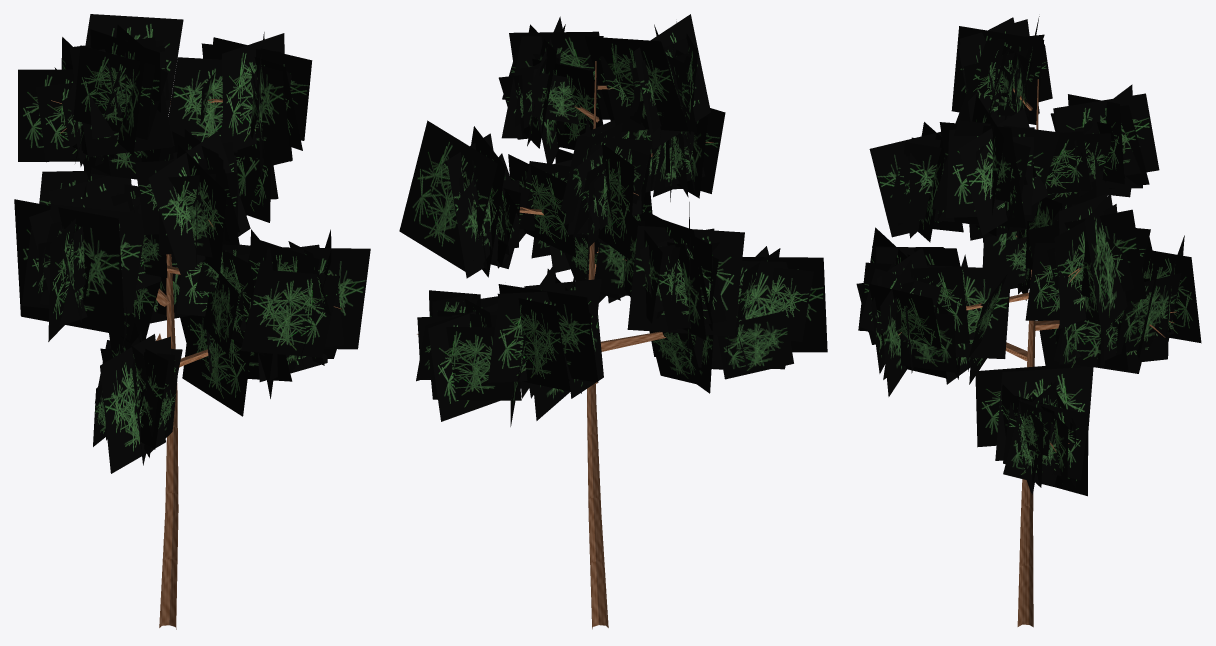
Rendered from Pine_Young_LOD1.glb.
3 views of the same model, side by side, from view 1: azimuth 30°, elevation 25°; view 2: azimuth 150°, elevation 25°; view 3: azimuth 270°, elevation 25° (orthographic). The views are drawn at different scales.
Parts seen in each view (by area): view 1: Leaves_03, Leaves_04, Leaves_08, Leaves_09, Leaves_06, Leaves_01, Leaves_07, Leaves_00, Leaves_02, Trunk_Mesh, Leaves_05; view 2: Leaves_05, Leaves_04, Leaves_01, Leaves_02, Leaves_09, Leaves_08, Leaves_00, Leaves_07, Leaves_06, Trunk_Mesh, Leaves_03, Bark_01; view 3: Leaves_03, Leaves_05, Leaves_00, Leaves_08, Leaves_02, Leaves_07, Leaves_09, Leaves_06, Leaves_01, Trunk_Mesh, Leaves_04.
Part boxes in pixels (box(x1,y1,x2,y2)): Leaves_03: box(176, 229, 370, 358); Leaves_04: box(14, 189, 167, 341); Leaves_08: box(168, 32, 312, 177); Leaves_09: box(69, 14, 183, 157); Leaves_06: box(135, 129, 250, 275); Leaves_01: box(93, 307, 182, 473); Leaves_07: box(18, 37, 160, 181); Leaves_00: box(180, 315, 336, 416); Leaves_02: box(39, 171, 190, 340); Trunk_Mesh: box(159, 254, 178, 629); Leaves_05: box(234, 147, 292, 222); Leaves_05: box(399, 120, 582, 278); Leaves_04: box(594, 202, 744, 355); Leaves_01: box(649, 246, 827, 393); Leaves_02: box(488, 264, 603, 398); Leaves_09: box(584, 14, 710, 156); Leaves_08: box(498, 16, 609, 163); Leaves_00: box(416, 290, 570, 426); Leaves_07: box(560, 119, 652, 259); Leaves_06: box(620, 108, 725, 212); Trunk_Mesh: box(587, 61, 608, 629); Leaves_03: box(531, 149, 652, 303); Bark_01: box(600, 331, 666, 351); Leaves_03: box(859, 247, 1011, 396); Leaves_05: box(1025, 188, 1150, 333); Leaves_00: box(975, 364, 1093, 496); Leaves_08: box(931, 95, 1060, 235); Leaves_02: box(1038, 235, 1201, 373); Leaves_07: box(1045, 84, 1159, 204); Leaves_09: box(951, 16, 1052, 124); Leaves_06: box(869, 122, 1027, 242); Leaves_01: box(856, 227, 986, 384); Trunk_Mesh: box(1017, 79, 1038, 627); Leaves_04: box(982, 204, 1077, 300).
Bounding box in the file's own units: 6.59 × 11.92 × 6.4.
2 materials, 2 textured.
